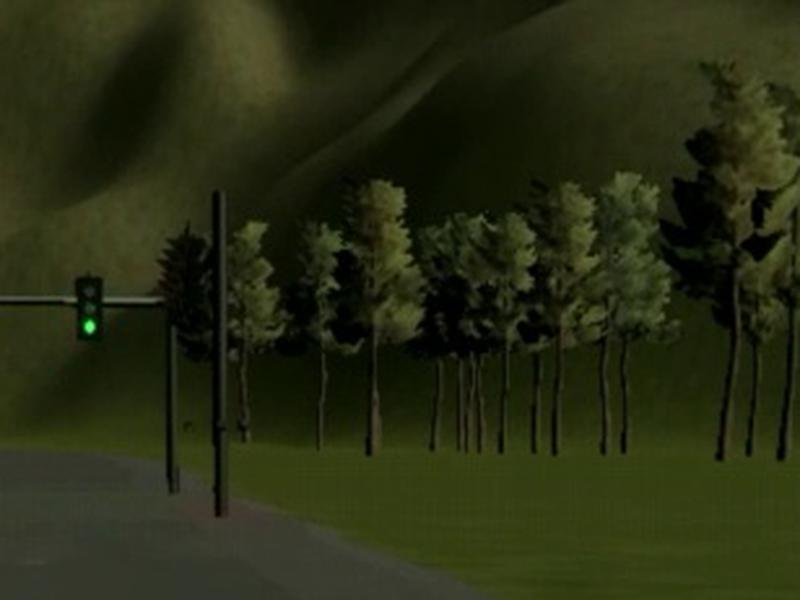Green: (76, 276, 102, 339)
